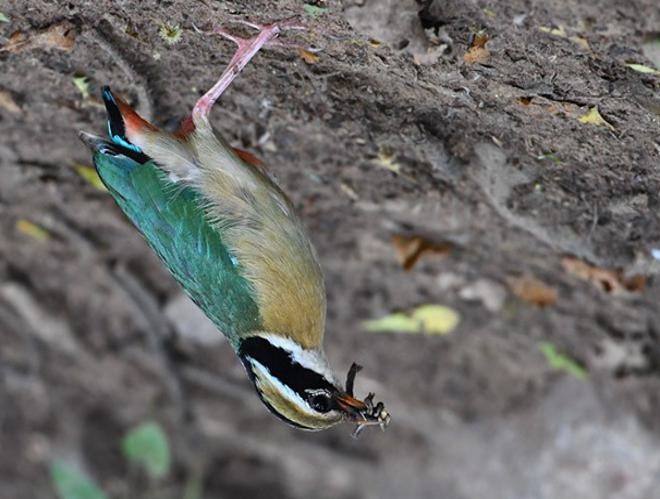pitta: (81, 51, 391, 440)
